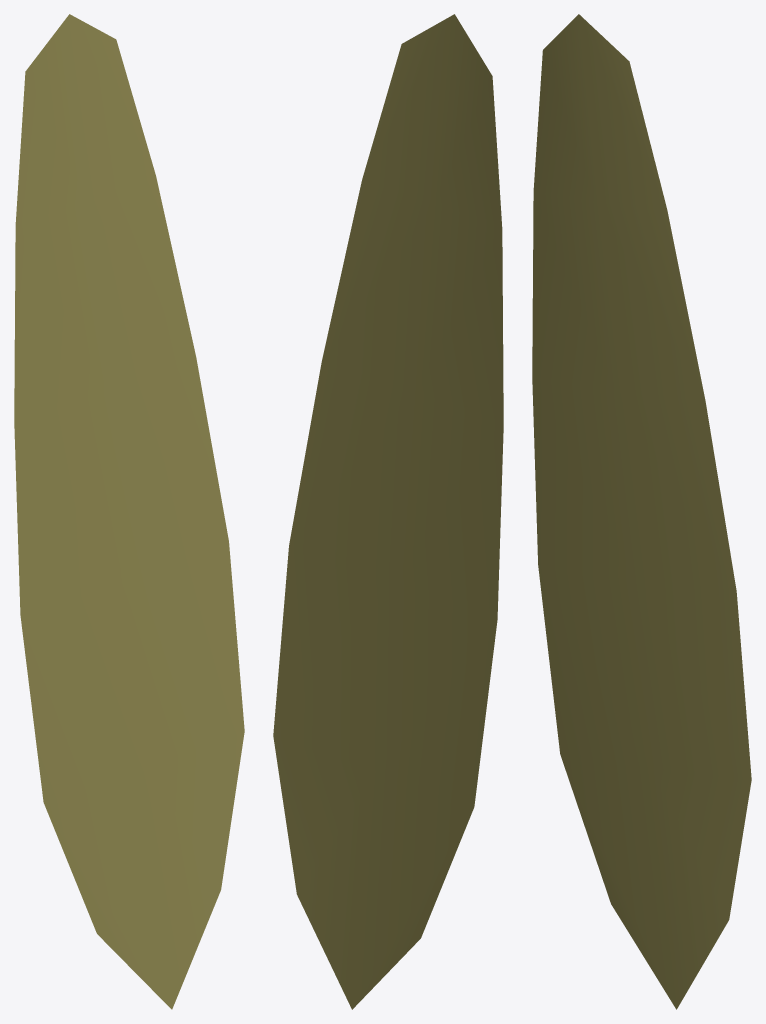
File: lovebird_feather_flight_primary_007.obj
The picture shows the model from 3 angles, left to right: view 1: azimuth 30°, elevation 25°; view 2: azimuth 150°, elevation 25°; view 3: azimuth 330°, elevation 25°; orthographic projection. The views are drawn at different scales.
Parts seen in each view (by area): view 1: feather_flight_primary_007; view 2: feather_flight_primary_007; view 3: feather_flight_primary_007.
Boxes of the visible parts, x1,y1,x2,y2 form: feather_flight_primary_007: (14,14,244,1009); feather_flight_primary_007: (273,14,503,1009); feather_flight_primary_007: (532,14,751,1009).
Size of the model in its own units: 0.00687 by 0.0291 by 0.00016.
